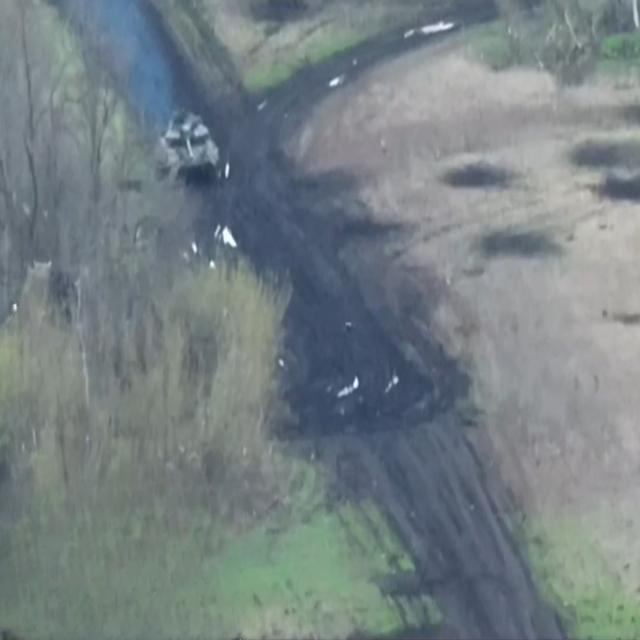MBT: (153, 102, 223, 188)
